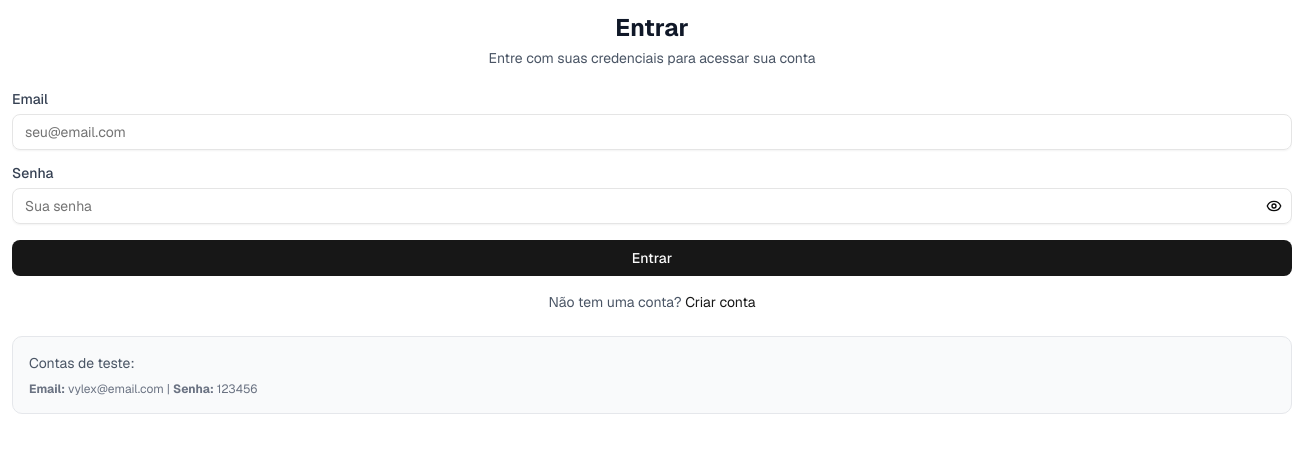
LoginForm › deve mostrar erro quando login lança exceção
In the field labelled "Email": [652, 132] box top-left (12, 114), bottom-right (1292, 150), type "test@example.com"
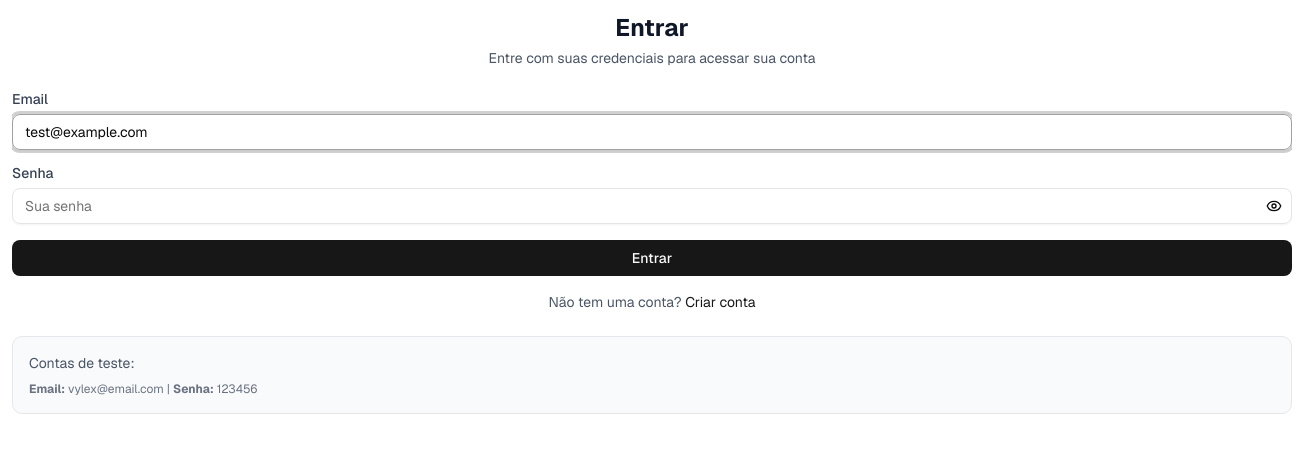
In the password field labelled "Senha": [652, 206] box top-left (12, 188), bottom-right (1292, 224), type "password123"
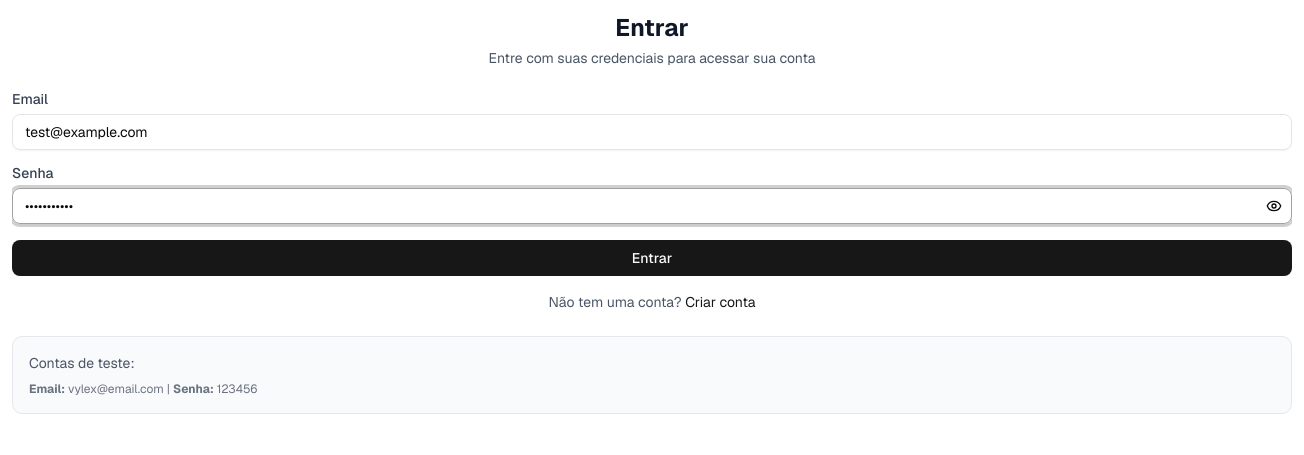
Click the button "Entrar": [652, 258] box top-left (12, 240), bottom-right (1292, 276)
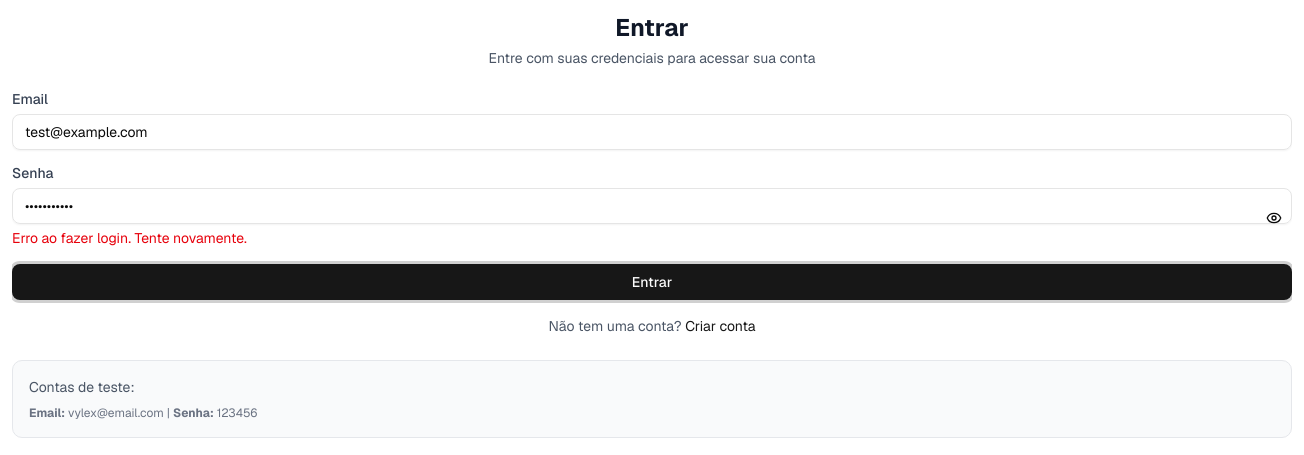
Check: the text "Erro ao fazer login. Tente novamente." is shown, box top-left (12, 229), bottom-right (247, 247)
